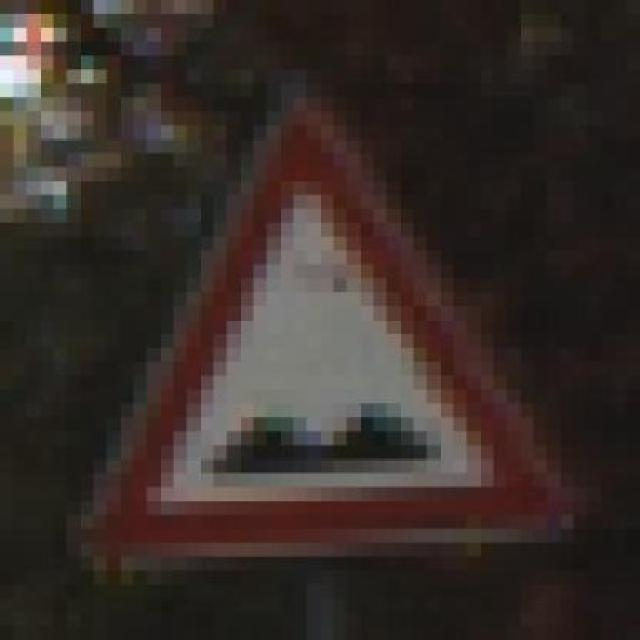Uneven Road: (67, 56, 587, 570)
